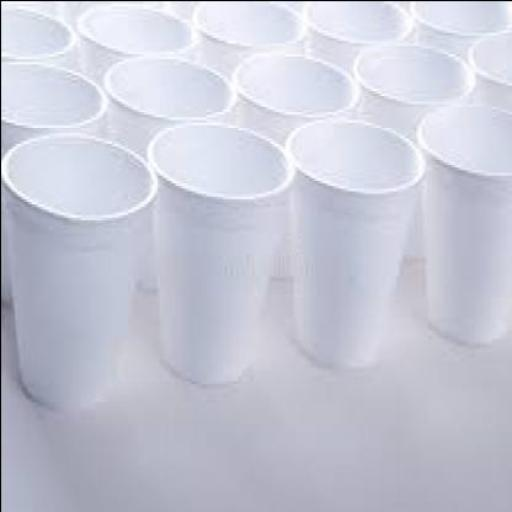paper: (1, 128, 155, 405), (146, 119, 293, 377), (281, 116, 419, 362), (416, 100, 510, 340), (98, 50, 238, 158), (231, 48, 360, 164), (352, 37, 473, 145), (0, 53, 106, 145), (74, 1, 196, 53), (188, 1, 306, 53), (299, 1, 411, 53), (408, 1, 510, 46), (1, 1, 74, 62), (466, 26, 510, 106)
